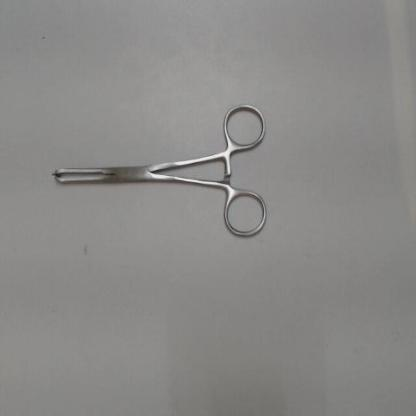Allis Tissue Forceps: (44, 99, 272, 250)
